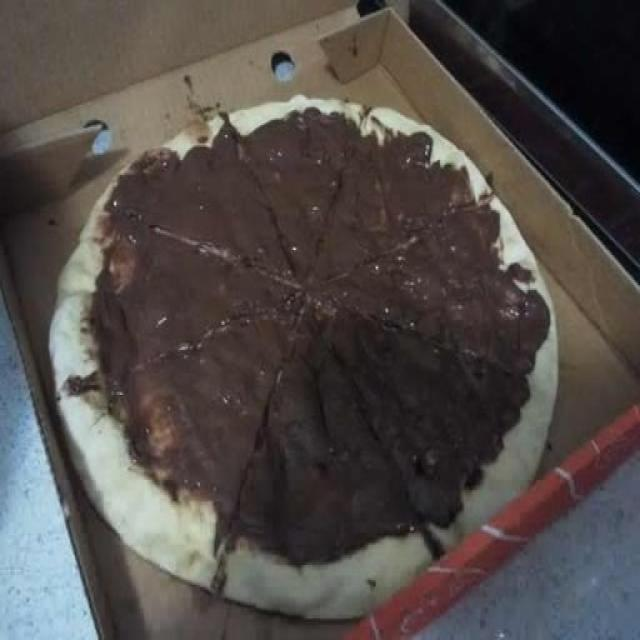Nutella: (103, 199, 484, 474), (134, 153, 470, 199), (488, 225, 542, 449), (207, 481, 459, 528)
Pizza: (57, 94, 558, 614)
